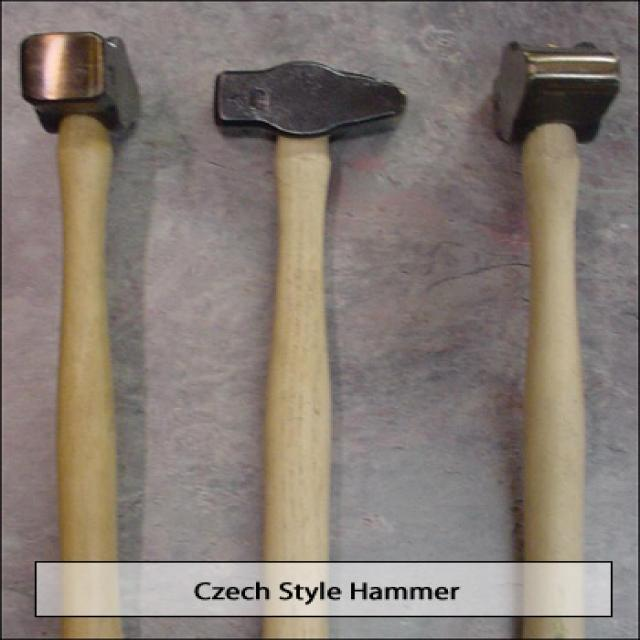hammer: (205, 57, 419, 640), (476, 38, 630, 640), (14, 22, 151, 640)
